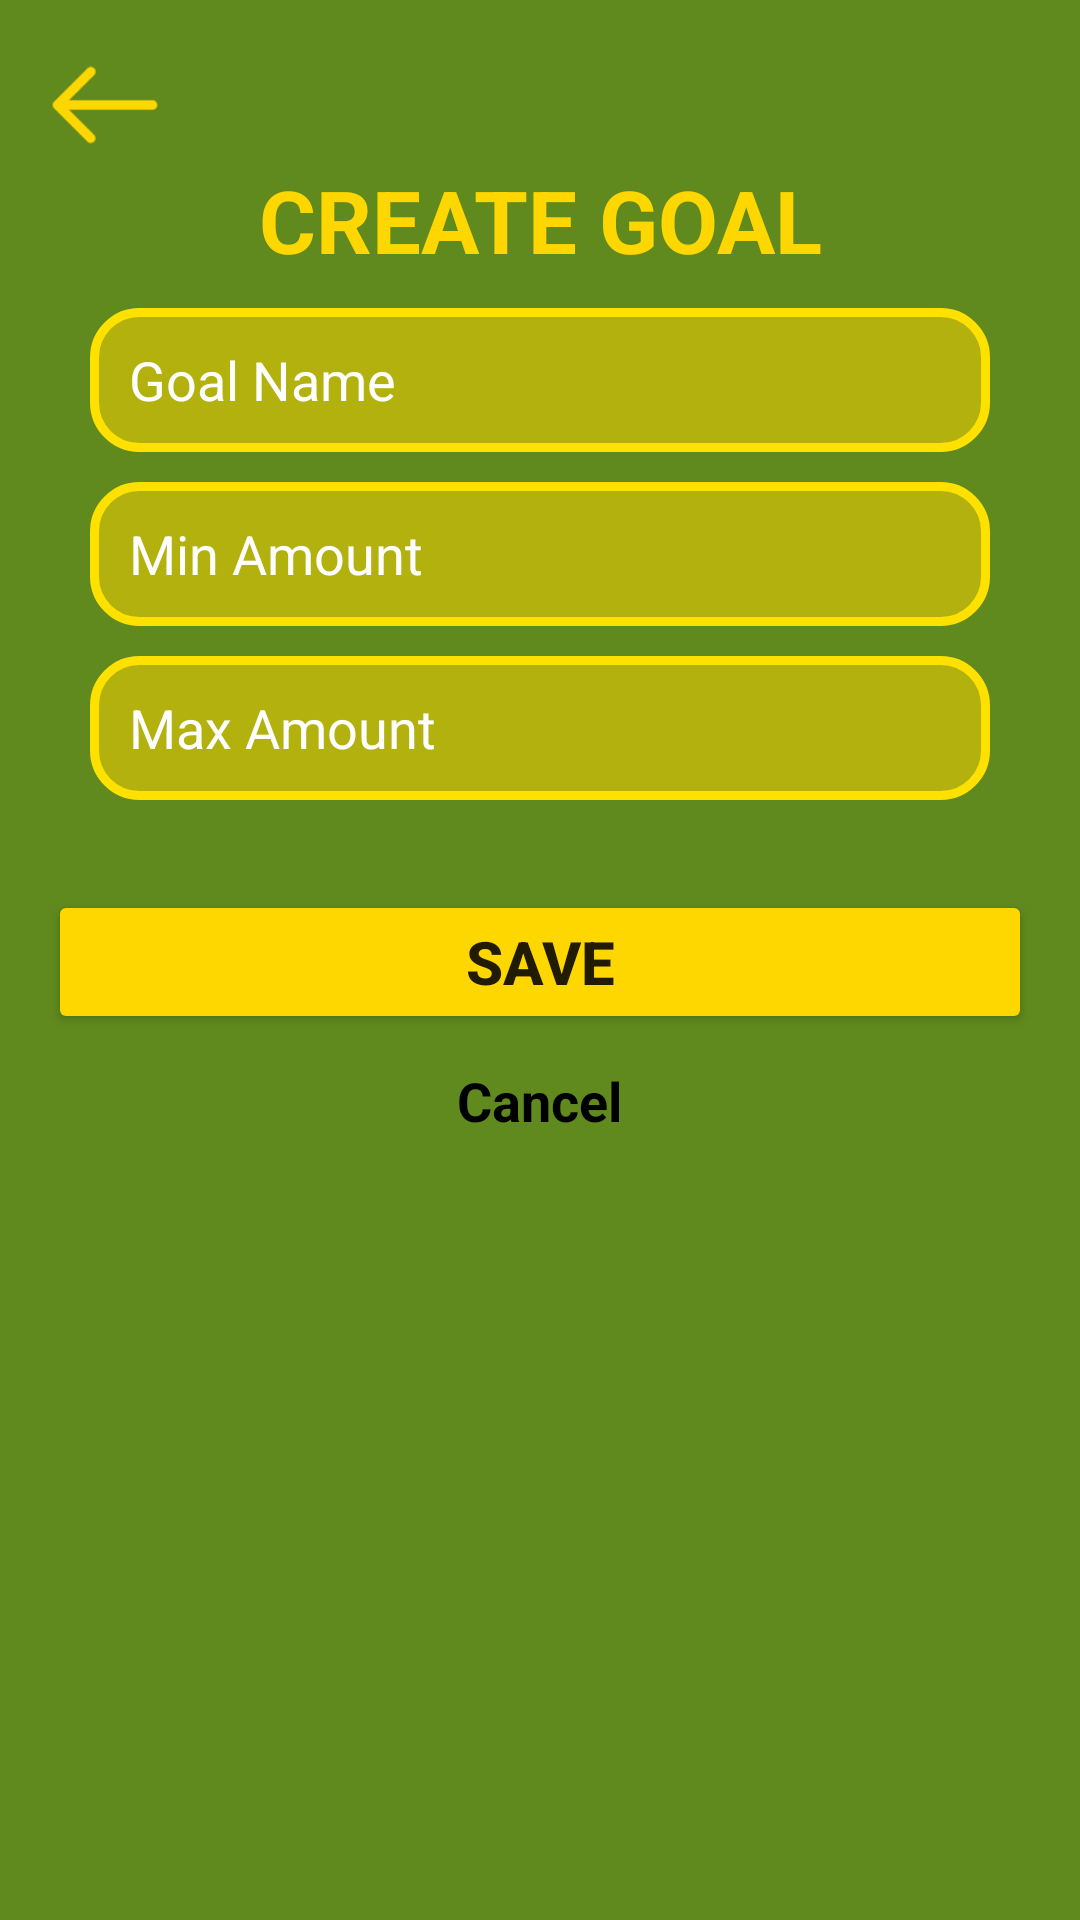

Screen size 1080*1920. Icon name, then its box in pixels as (x1, y1, x2, y2):
back: (52, 66, 158, 144)
